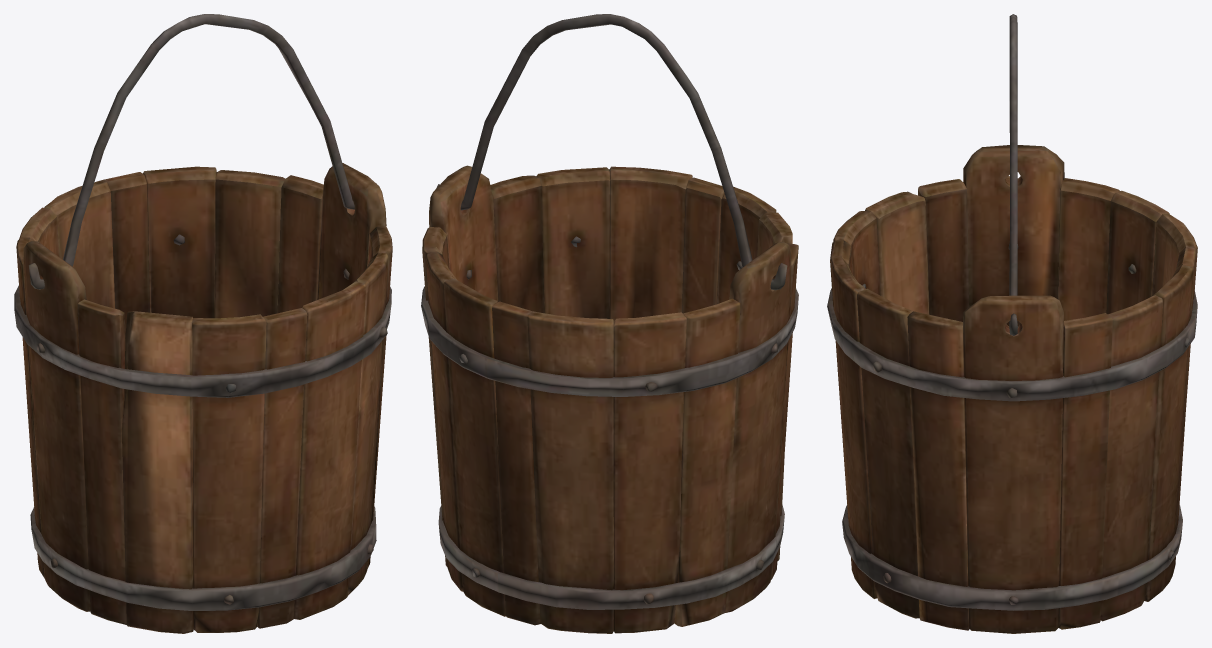
File: wooden_bucket_01.glb
3 renders of one model, left to right at view 1: azimuth 30°, elevation 25°; view 2: azimuth 150°, elevation 25°; view 3: azimuth 270°, elevation 25°, orthographic.
Parts seen in each view (by area): view 1: wooden_bucket_01; view 2: wooden_bucket_01; view 3: wooden_bucket_01.
Part boxes in pixels (x1=…): wooden_bucket_01: x1=14, y1=14, x2=392, y2=633; wooden_bucket_01: x1=421, y1=14, x2=798, y2=633; wooden_bucket_01: x1=827, y1=14, x2=1197, y2=633.
Size of the model in its own units: 0.3663 by 0.5499 by 0.3419.
Materials: 1 (1 with a texture image).
